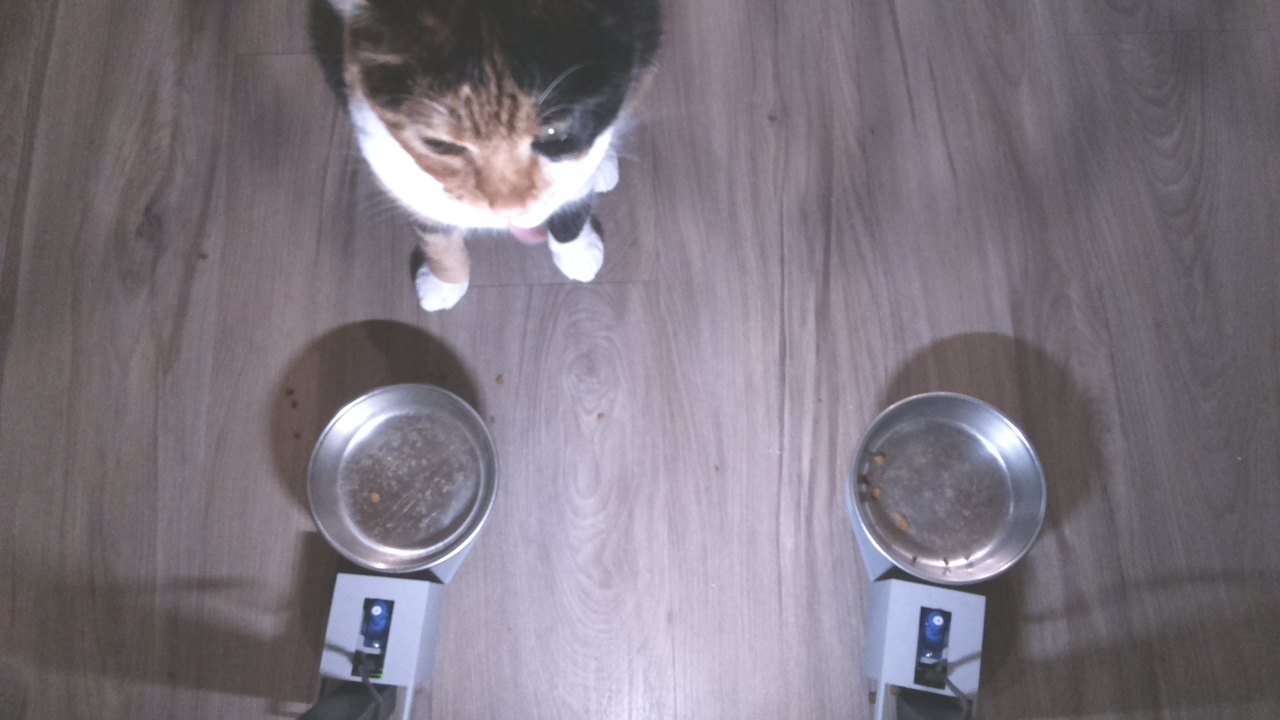bella: (318, 1, 642, 214)
open_bowl: (851, 386, 1057, 590), (304, 372, 494, 580)
